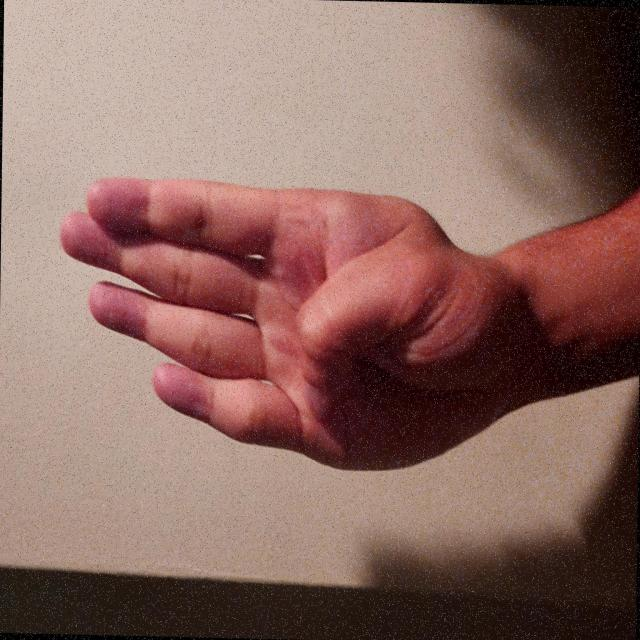B: (120, 69, 353, 640)
